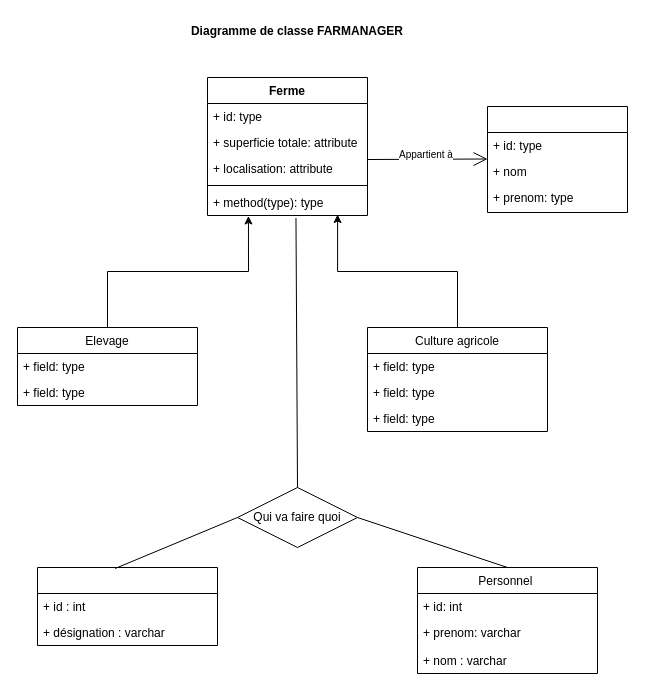
Some shapes in this 645 by 693 pixel diagram are drawn without their labels. Here are the shapes that lost their labels. From the top down, the box of each, then its label:
(486, 106, 628, 212): Fermier
(36, 566, 218, 646): Tâches
